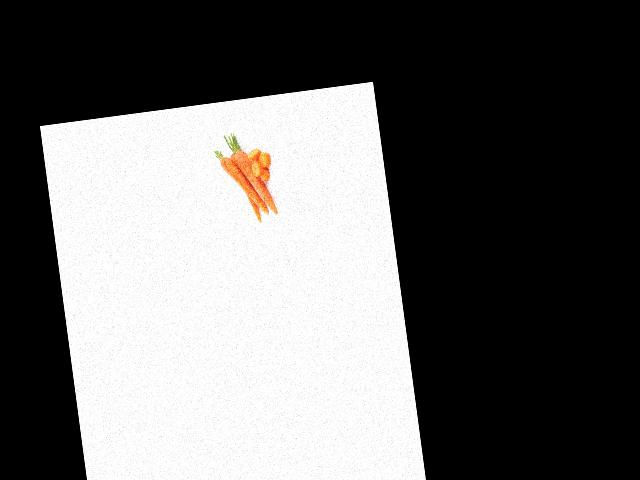carrot: (231, 138, 278, 218)
